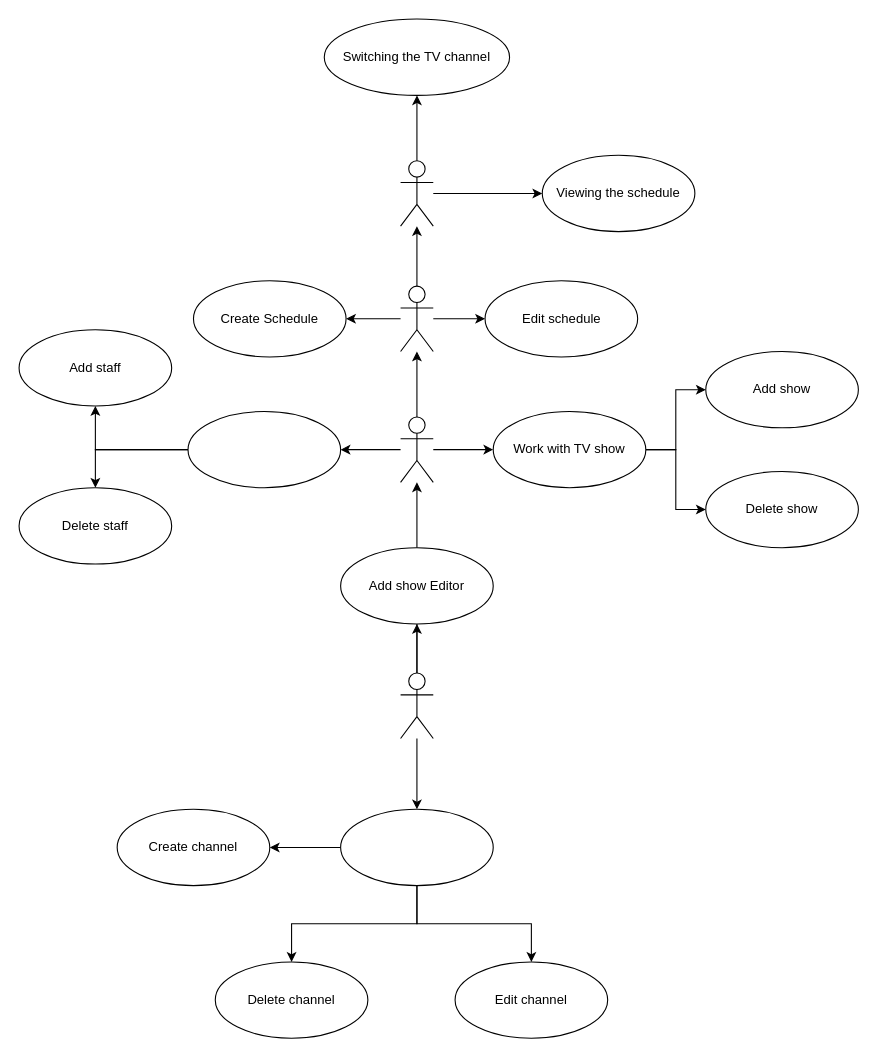
Some shapes in this 877 by 1057 pixel diagram are drawn without their labels. Each missing label, with the box of its shape:
Admin: (399, 672, 433, 738)
Schedule Creator: (399, 285, 433, 352)
TV Show Editor: (399, 416, 433, 482)
TV Viewer: (399, 160, 433, 226)
Work with channel: (340, 808, 493, 886)
Work with staff: (187, 410, 341, 488)
